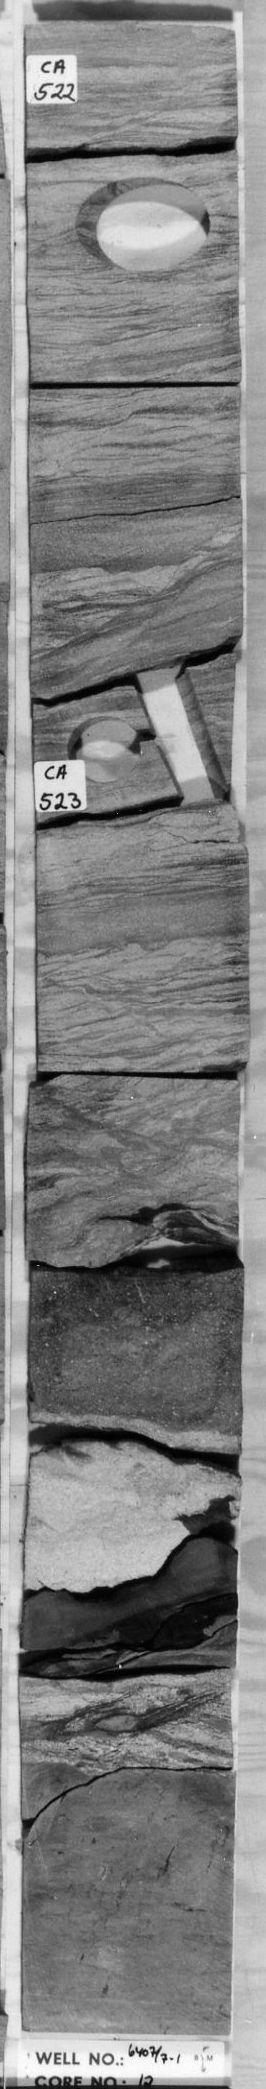hplug: (63, 713, 145, 787), (78, 56, 192, 92)
scal: (72, 167, 223, 286)
vplug: (132, 659, 230, 810)
